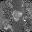people: (12, 10, 22, 22)
